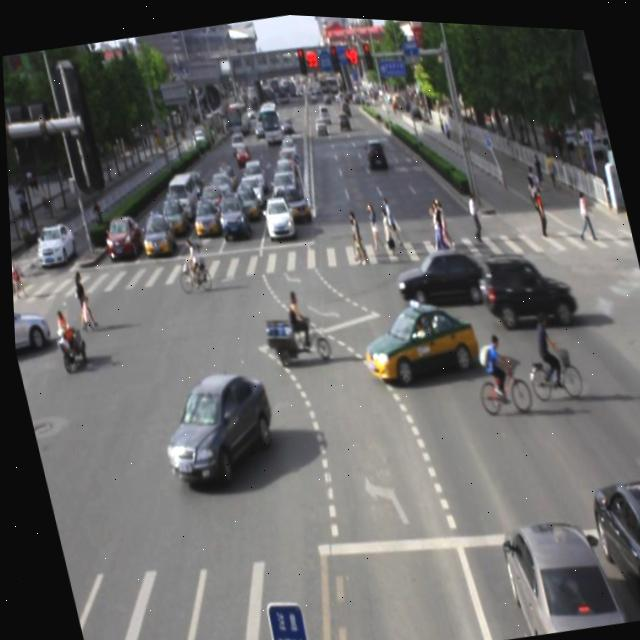car: (146, 359, 283, 492), (486, 499, 614, 637), (350, 286, 480, 391), (575, 455, 640, 620), (473, 235, 575, 331), (389, 234, 490, 317)
